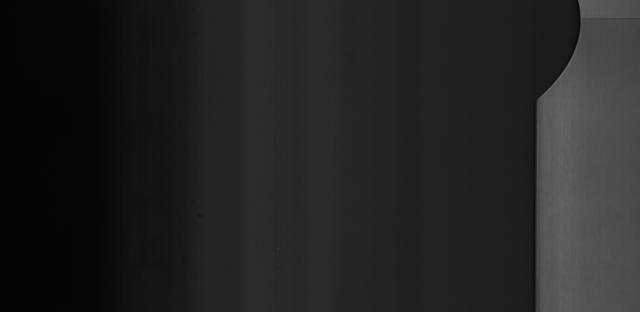crescent_gap: (527, 0, 595, 106)
